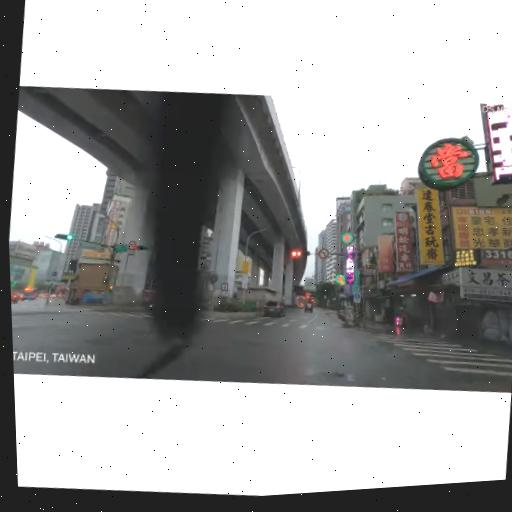Car: (259, 297, 288, 322), (299, 297, 317, 314), (23, 286, 38, 301), (11, 291, 18, 303)
